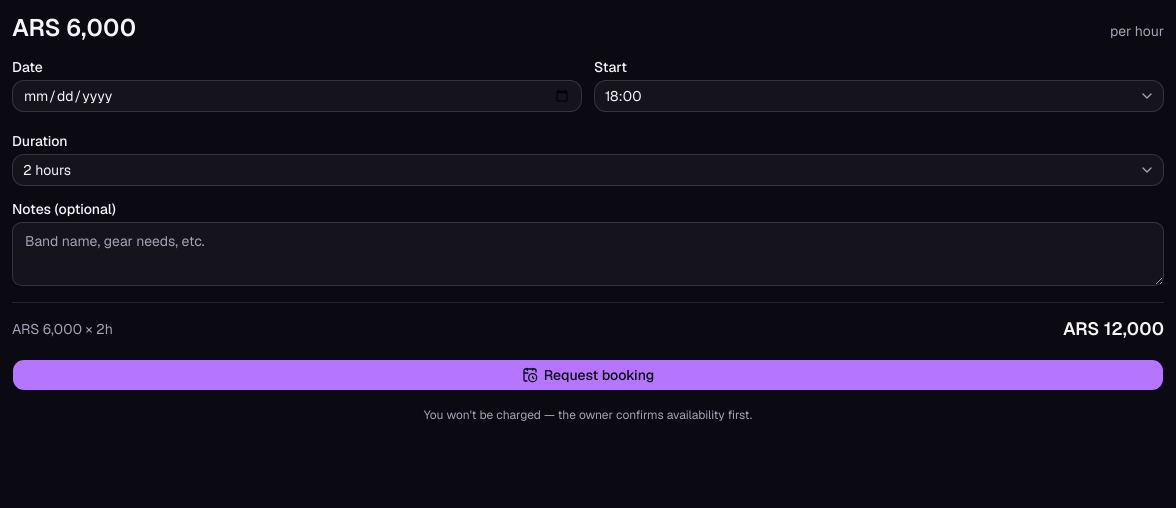
BookingWidget › renders form and field errors returned by the action
Type "2026-07-01" into the date field labelled "Date" at (297,96), box x1=12 y1=80 x2=582 y2=112
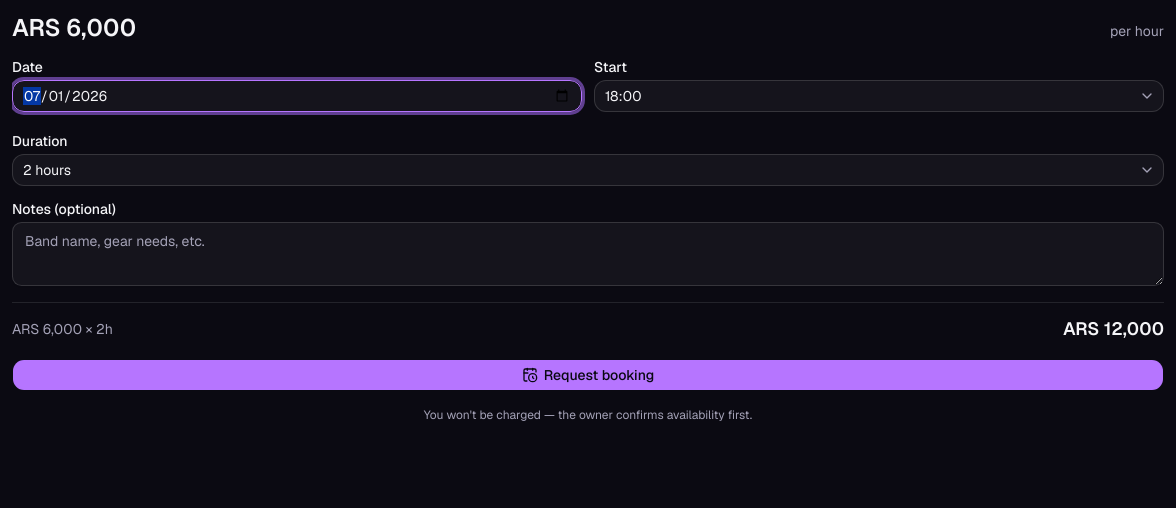
Click the button "Request booking" at (588,375), box x1=12 y1=359 x2=1164 y2=391
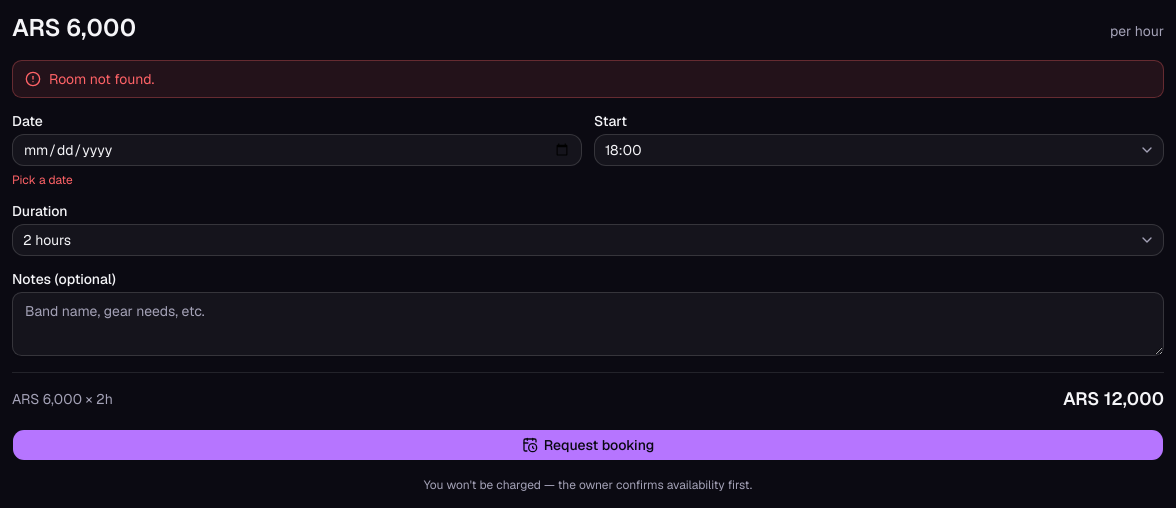
expect the text "Room not found." is shown: met, box x1=49 y1=69 x2=154 y2=89
expect the text "Pick a date" is shown: met, box x1=12 y1=172 x2=73 y2=188
